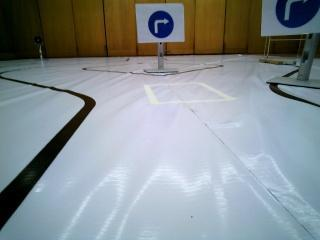right: (135, 4, 188, 43), (261, 0, 319, 34)
